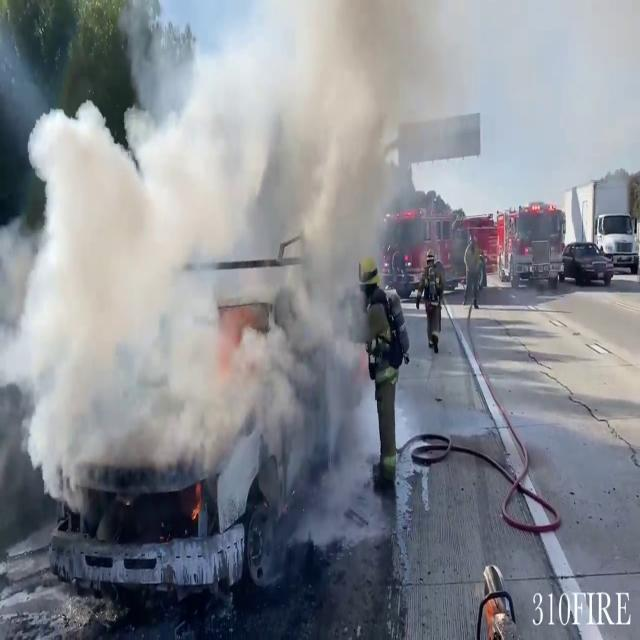Smoke: (0, 1, 446, 528)
